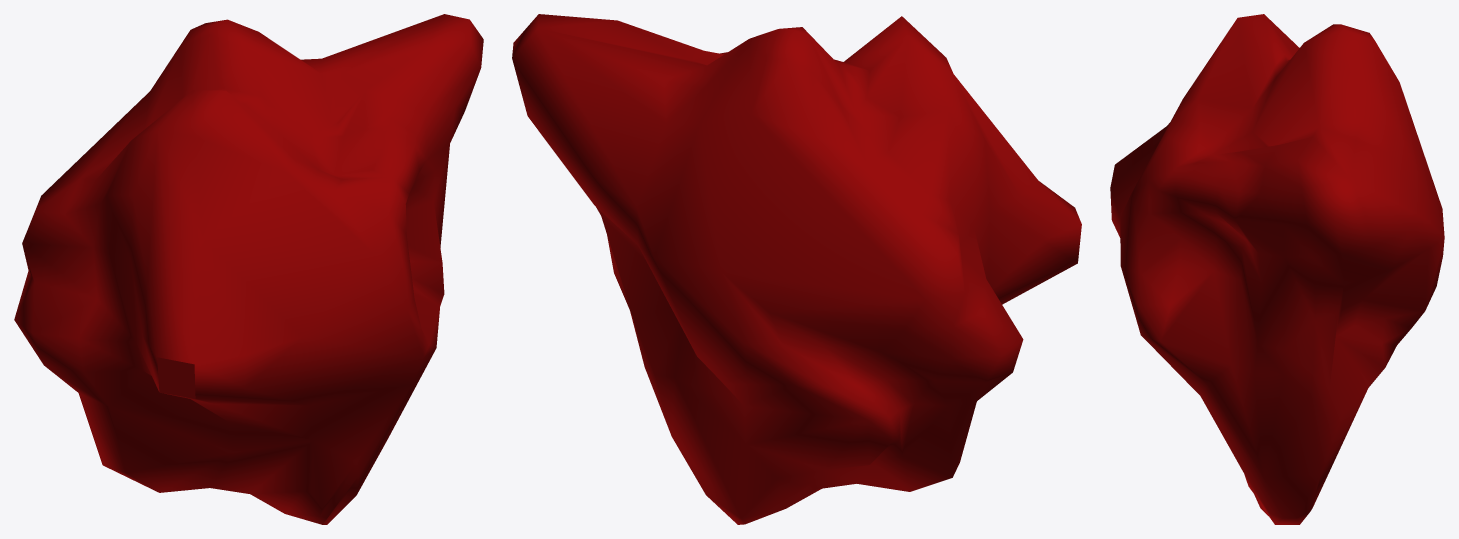
The model's file is Asteroid1.FBX.
3 views of the same model, side by side, from view 1: azimuth 30°, elevation 25°; view 2: azimuth 150°, elevation 25°; view 3: azimuth 270°, elevation 25° (orthographic). The views are drawn at different scales.
Parts seen in each view (by area): view 1: Sphere02; view 2: Sphere02; view 3: Sphere02.
Boxes of the visible parts, <box> form: Sphere02: <box>14,14,483,524</box>; Sphere02: <box>512,14,1081,524</box>; Sphere02: <box>1110,14,1444,524</box>.
Size of the model in its own units: 114 by 116 by 75.6.
